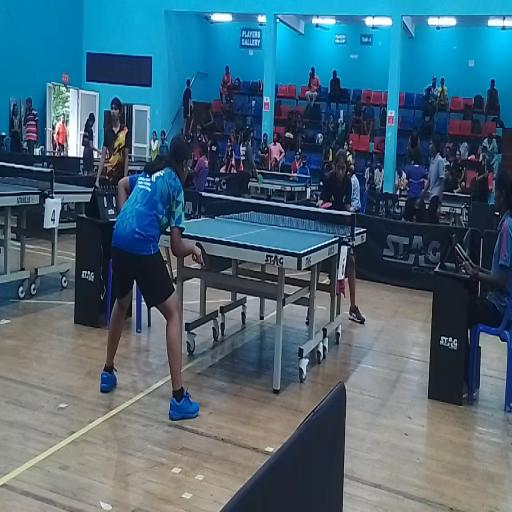ball: (350, 207, 354, 211)
